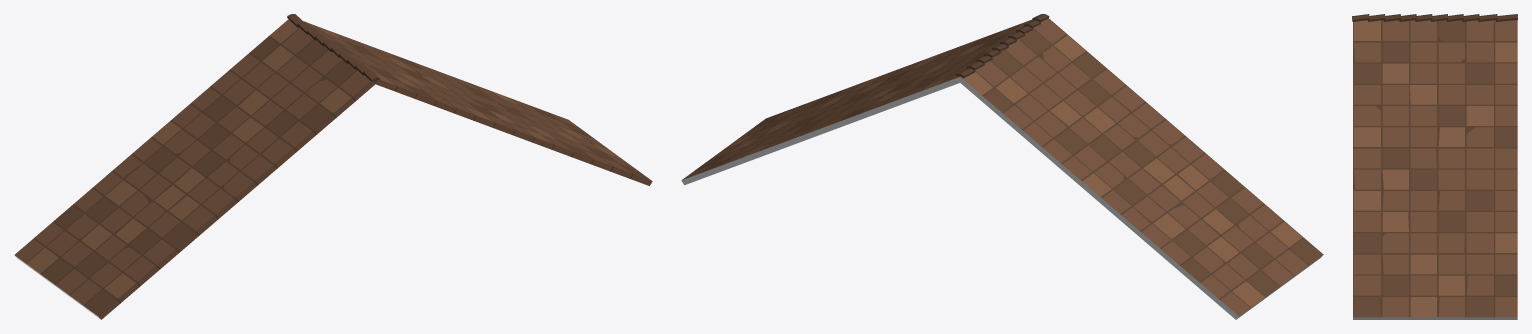
File: Roof4_C9_03.fbx
3 renders of one model, left to right at view 1: azimuth 30°, elevation 25°; view 2: azimuth 150°, elevation 25°; view 3: azimuth 270°, elevation 25°, orthographic. The views are drawn at different scales.
Parts seen in each view (by area): view 1: Roof4_C9_03; view 2: Roof4_C9_03; view 3: Roof4_C9_03.
Part boxes in pixels (bbox=[...]): Roof4_C9_03: bbox=[14, 14, 652, 319]; Roof4_C9_03: bbox=[681, 14, 1323, 319]; Roof4_C9_03: bbox=[1352, 14, 1517, 319].
Size of the model in its own units: 1105 by 338 by 292.
